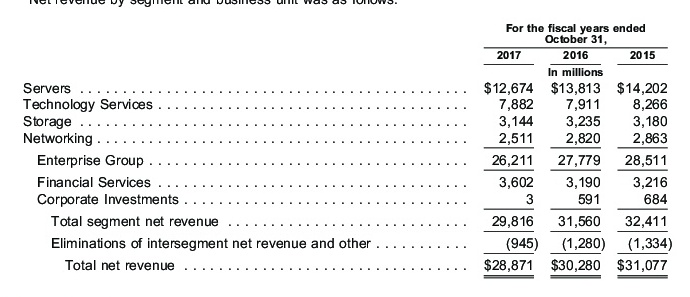table: (0, 0, 690, 297)
